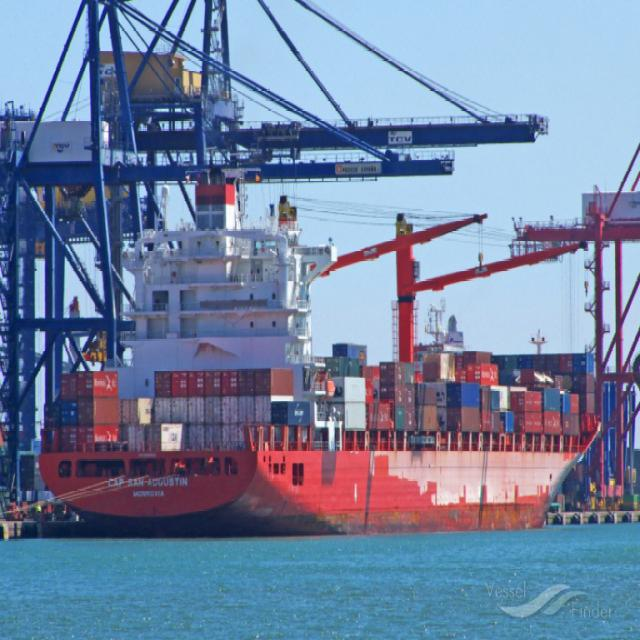Container Ship: (40, 184, 598, 536)
